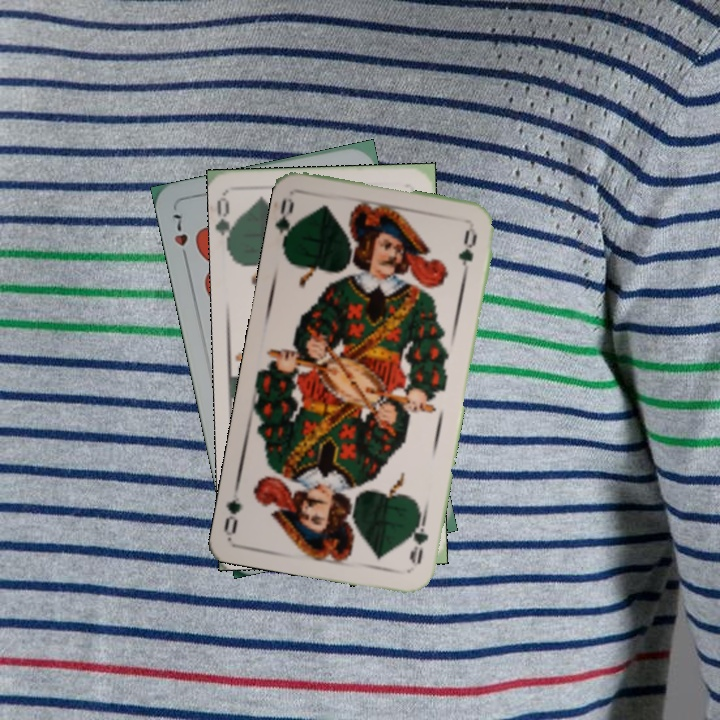GO: (273, 192, 302, 252), (215, 194, 242, 253), (405, 511, 431, 567)
H7: (168, 210, 191, 265)
